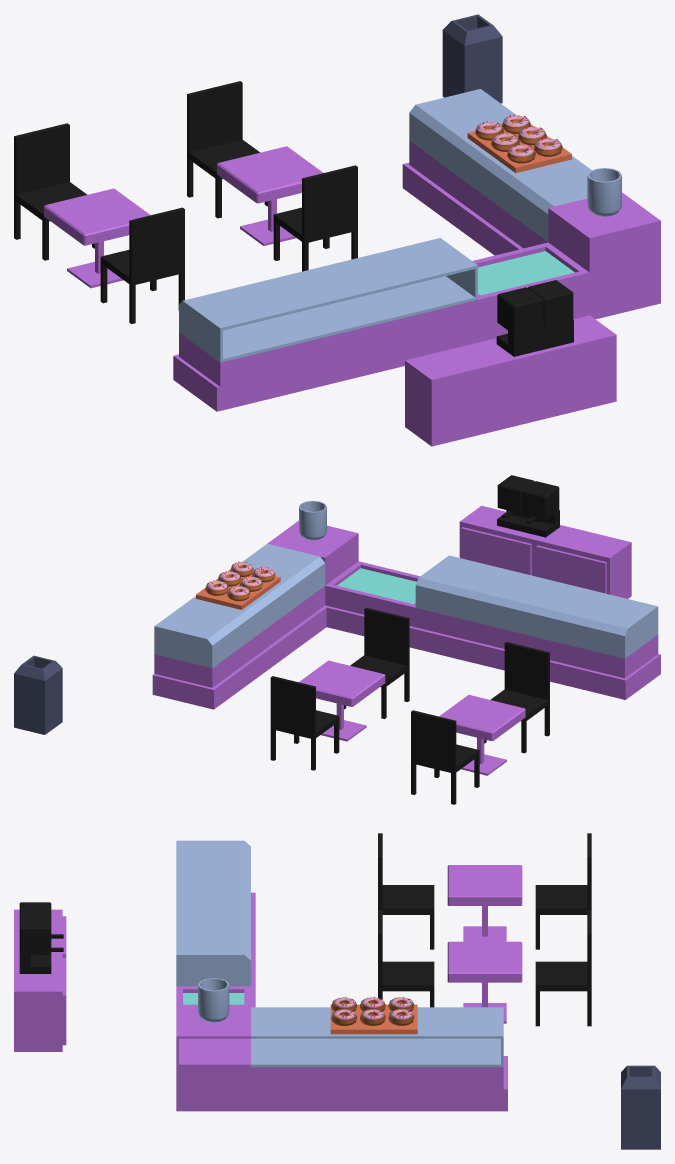
The model's file is Bakery_Store_Platform.fbx.
The picture shows the model from 3 angles, top to bottom: view 1: azimuth 30°, elevation 25°; view 2: azimuth 150°, elevation 25°; view 3: azimuth 270°, elevation 25°; orthographic projection. The views are drawn at different scales.
Parts seen in each view (by area): view 1: Cube.228, Cube.230, Cube.221, Cube.226, Cube.223, Cube.227, Cube.234, Cube.233, Cube.232, Sphere.004, Cube.236, Cube.238 (+1 smaller); view 2: Cube.228, Cube.230, Cube.221, Cube.226, Cube.234, Cube.223, Cube.227, Cube.233, Cube.232, Sphere.004, Cube.229, Cube.236 (+1 smaller); view 3: Cube.228, Cube.230, Cube.226, Cube.221, Cube.223, Cube.227, Cube.234, Cube.232, Sphere.004, Cube.229, Cube.238, Cube.236 (+1 smaller).
Part boxes in pixels (x1,y1,x2,y2): Cube.228: (173, 89, 660, 411); Cube.230: (405, 315, 616, 446); Cube.221: (14, 123, 184, 323); Cube.226: (187, 81, 357, 271); Cube.223: (44, 188, 150, 288); Cube.227: (217, 146, 322, 245); Cube.234: (442, 14, 502, 103); Cube.233: (496, 287, 543, 356); Cube.232: (527, 280, 573, 349); Sphere.004: (587, 168, 621, 216); Cube.236: (475, 121, 535, 163); Cube.238: (502, 114, 562, 156); Cube.228: (152, 520, 660, 709); Cube.230: (459, 505, 631, 598); Cube.221: (411, 642, 549, 804); Cube.226: (270, 607, 409, 770); Cube.234: (14, 655, 62, 734); Cube.223: (439, 695, 525, 775); Cube.227: (299, 660, 385, 741); Cube.233: (521, 481, 559, 537); Cube.232: (497, 475, 534, 531); Sphere.004: (299, 500, 326, 540); Cube.229: (196, 569, 280, 609); Cube.236: (227, 567, 275, 601); Cube.228: (176, 840, 507, 1111); Cube.230: (14, 909, 66, 1051); Cube.226: (378, 910, 591, 1026); Cube.221: (378, 833, 591, 949); Cube.223: (447, 865, 522, 941); Cube.227: (447, 941, 522, 1023); Cube.234: (621, 1065, 660, 1149); Cube.232: (19, 915, 63, 973); Sphere.004: (198, 978, 229, 1022); Cube.229: (330, 1004, 417, 1034); Cube.238: (331, 1008, 414, 1026); Cube.236: (331, 996, 414, 1011).
Size of the model in its own units: 743 by 163 by 864.
